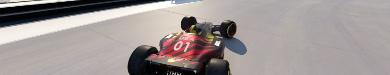Car: (126, 18, 237, 74)
